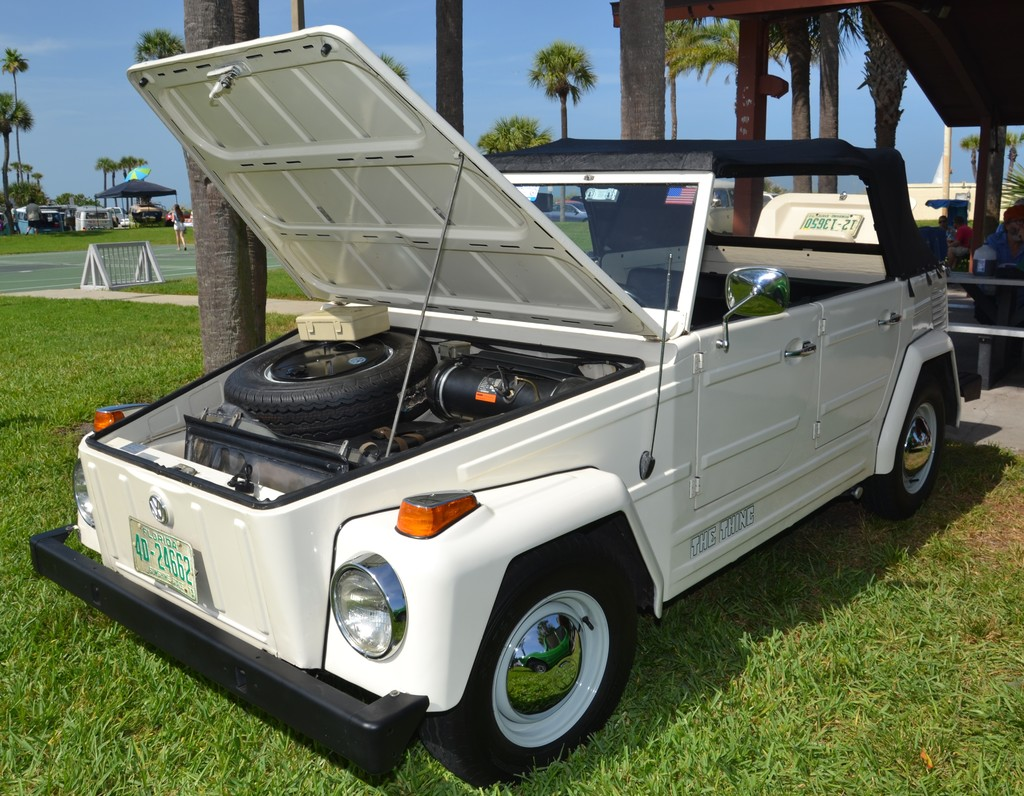cars: (26, 22, 973, 781), (685, 182, 734, 235), (542, 201, 587, 222), (166, 208, 189, 221), (763, 190, 778, 205)
